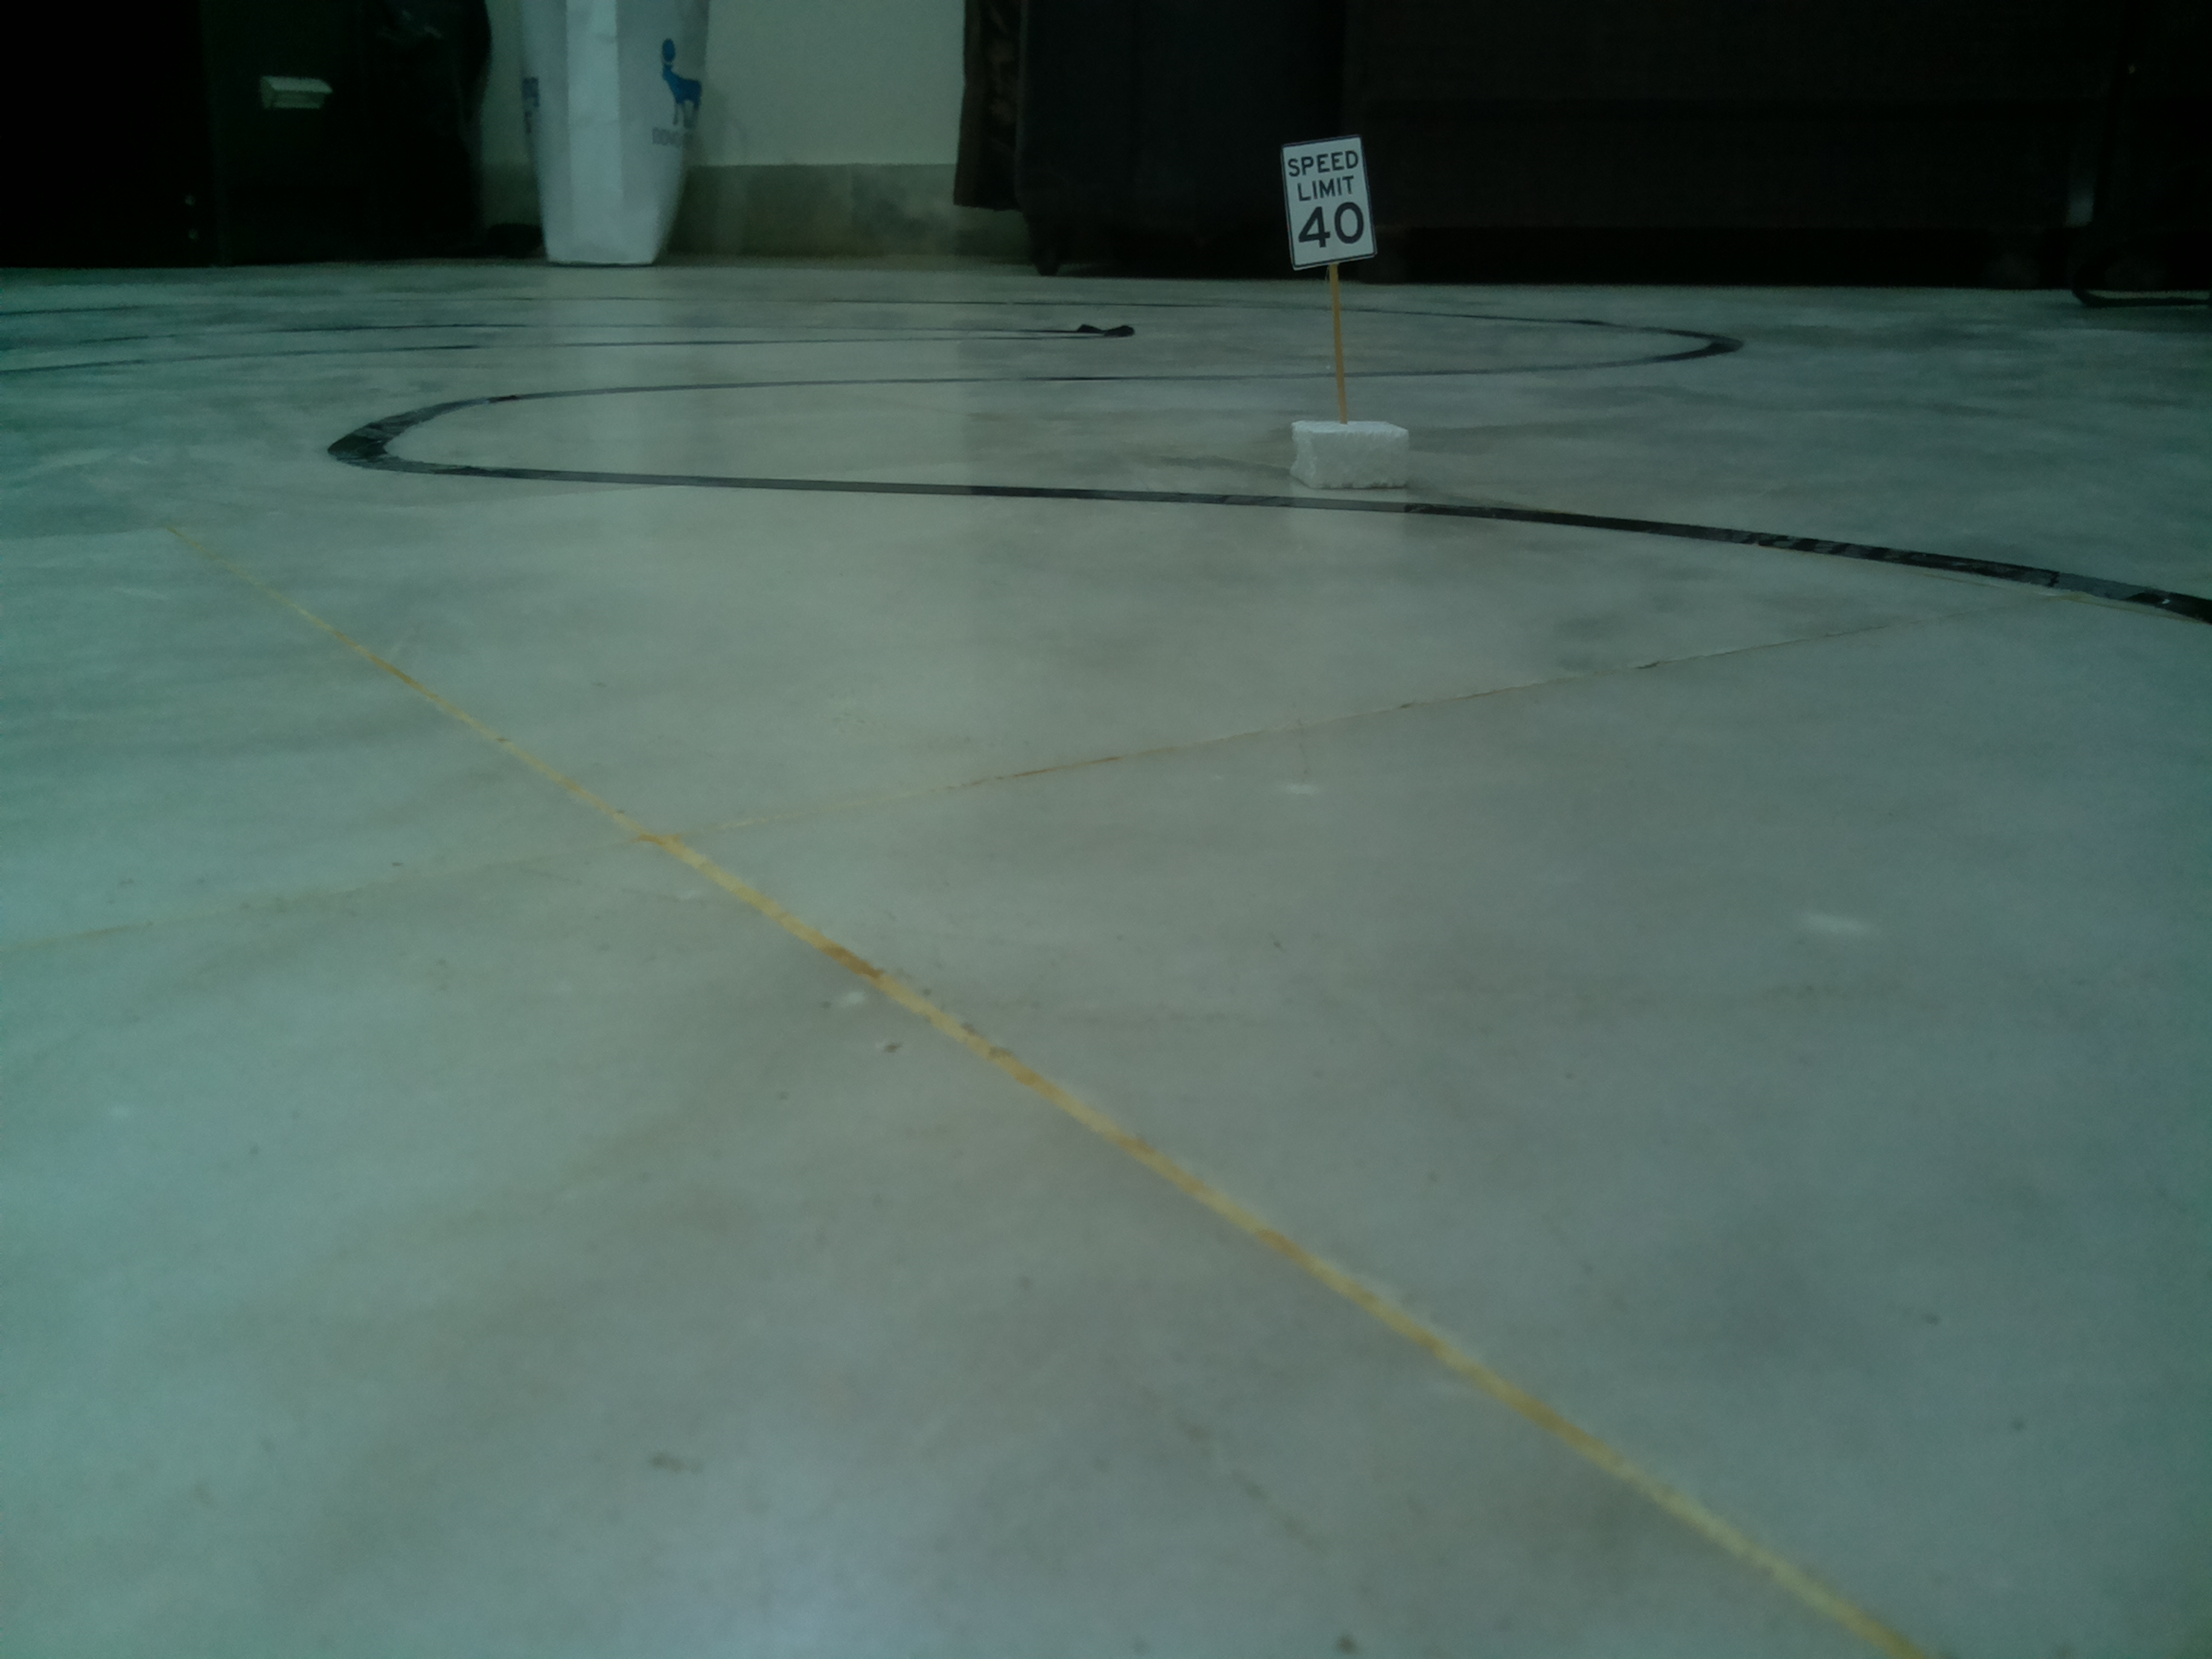Speed limit 40: (1278, 139, 1385, 275)
